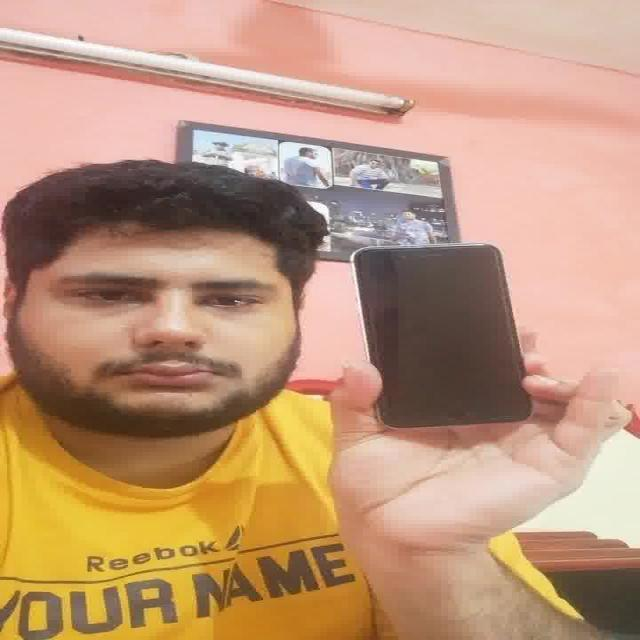Phone: (349, 242, 534, 430)
